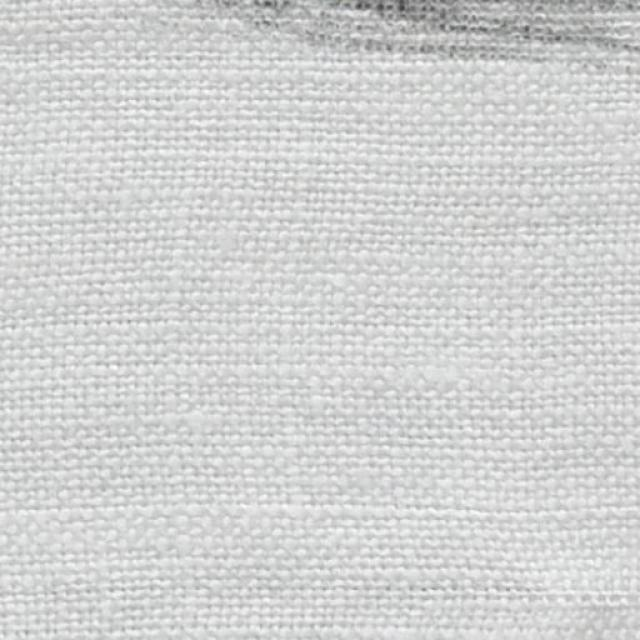Stain: (202, 0, 639, 75)
